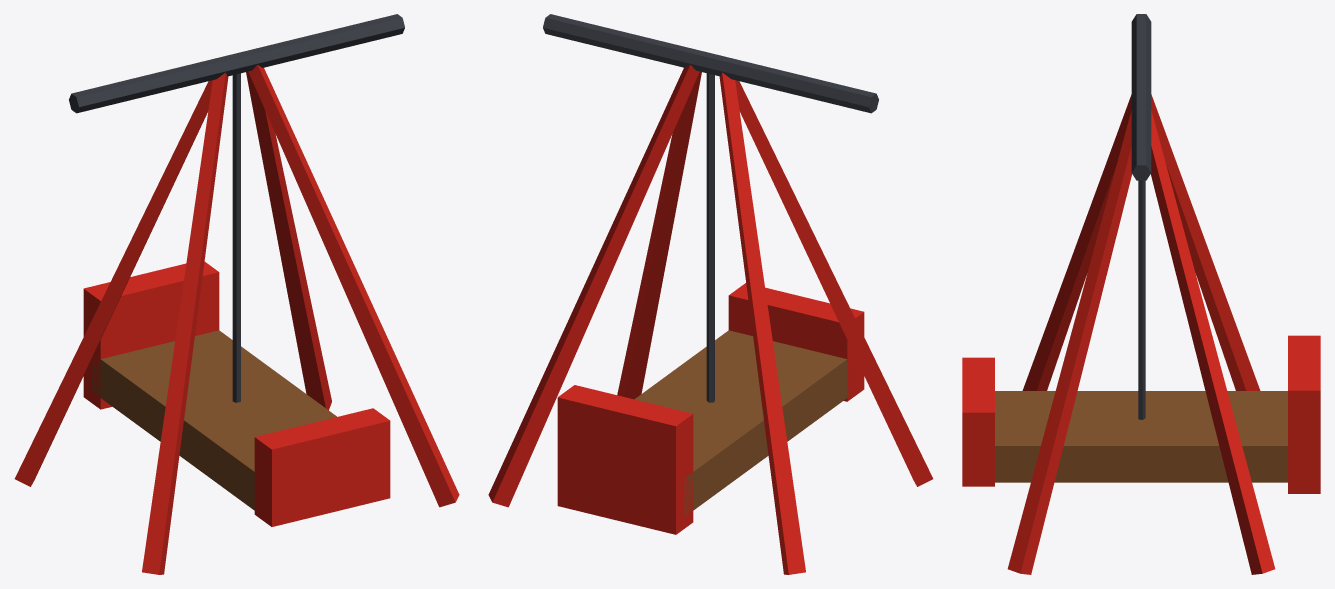
File: pirate_ship_swing.glb
3 renders of one model, left to right at view 1: azimuth 30°, elevation 25°; view 2: azimuth 150°, elevation 25°; view 3: azimuth 270°, elevation 25°, orthographic. The views are drawn at different scales.
Visible parts, largest first — view 1: pirate_ship_swing; view 2: pirate_ship_swing; view 3: pirate_ship_swing.
Part boxes in pixels (box(x1,y1,x2,y2)): pirate_ship_swing: box(14, 14, 459, 574); pirate_ship_swing: box(488, 14, 933, 574); pirate_ship_swing: box(962, 14, 1320, 574).
Bounding box in the file's own units: 4.4 × 5.65 × 4.4.
